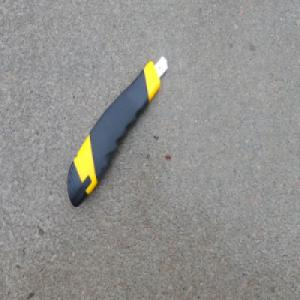Cutter: (66, 53, 169, 208)
